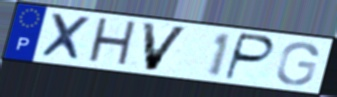1: (208, 32, 233, 78)
G: (274, 41, 321, 87)
H: (85, 16, 139, 70)
P: (222, 31, 277, 83)
V: (140, 20, 192, 73)
X: (38, 11, 94, 64)
